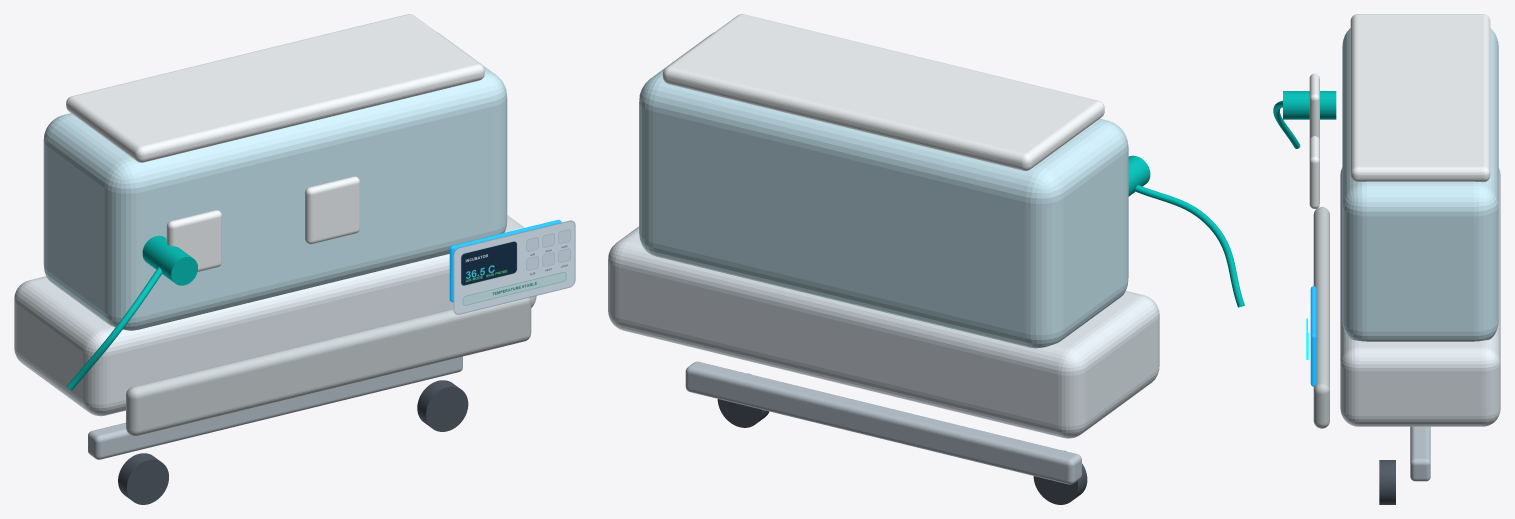
File: neonatal-incubator.glb
3 views of the same model, side by side, from view 1: azimuth 30°, elevation 25°; view 2: azimuth 150°, elevation 25°; view 3: azimuth 270°, elevation 25° (orthographic). The views are drawn at different scales.
Visible parts, largest first — view 1: polycarbonate canopy, canopy top rail, base warmer, integrated equipment drawer, photo-real incubator console, cart crossbar, right access port, left access port, incubator caster right, incubator caster left, skin probe, probe cable (+1 smaller); view 2: polycarbonate canopy, base warmer, canopy top rail, cart crossbar, probe cable, incubator caster left, incubator caster right; view 3: polycarbonate canopy, canopy top rail, base warmer, integrated equipment drawer, skin probe, cart crossbar, right access port, incubator caster right, left access port, temperature console, probe cable.
Part boxes in pixels (box(x1,y1,x2,y2)): polycarbonate canopy: box(43, 31, 507, 330); canopy top rail: box(66, 14, 484, 162); base warmer: box(14, 215, 536, 416); integrated equipment drawer: box(126, 297, 531, 436); photo-real incubator console: box(453, 220, 575, 314); cart crossbar: box(88, 356, 462, 459); right access port: box(305, 176, 359, 244); left access port: box(166, 210, 221, 271); incubator caster right: box(417, 380, 468, 431); incubator caster left: box(118, 453, 168, 504); skin probe: box(142, 235, 197, 285); probe cable: box(67, 267, 162, 390); polycarbonate canopy: box(639, 32, 1128, 348); base warmer: box(608, 226, 1159, 438); canopy top rail: box(662, 14, 1104, 170); cart crossbar: box(685, 361, 1081, 484); probe cable: box(1135, 185, 1244, 307); incubator caster left: box(1033, 450, 1087, 504); incubator caster right: box(717, 373, 769, 427); polycarbonate canopy: box(1342, 28, 1498, 341); canopy top rail: box(1350, 14, 1490, 182); base warmer: box(1340, 167, 1500, 426); integrated equipment drawer: box(1313, 207, 1329, 428); skin probe: box(1283, 91, 1336, 119); cart crossbar: box(1410, 426, 1430, 481); right access port: box(1309, 136, 1319, 208); incubator caster right: box(1379, 460, 1395, 504); left access port: box(1309, 73, 1319, 140); temperature console: box(1310, 286, 1316, 386); probe cable: box(1273, 100, 1300, 148).
Size of the model in its own units: 2.67 by 1.85 by 1.11.
Materials: 12 (1 with a texture image).
